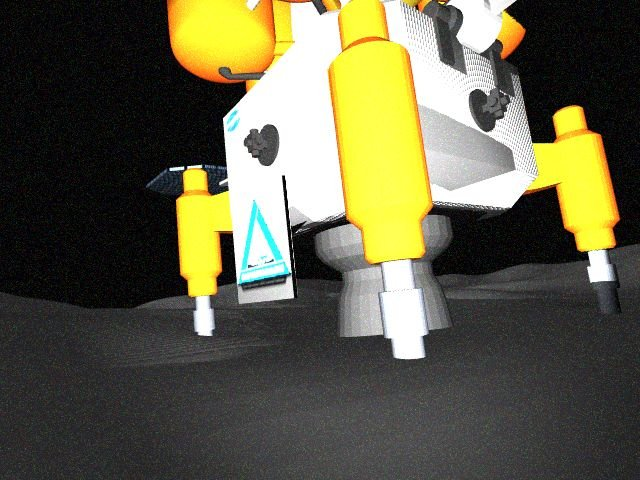basemarker: (237, 200, 292, 287)
